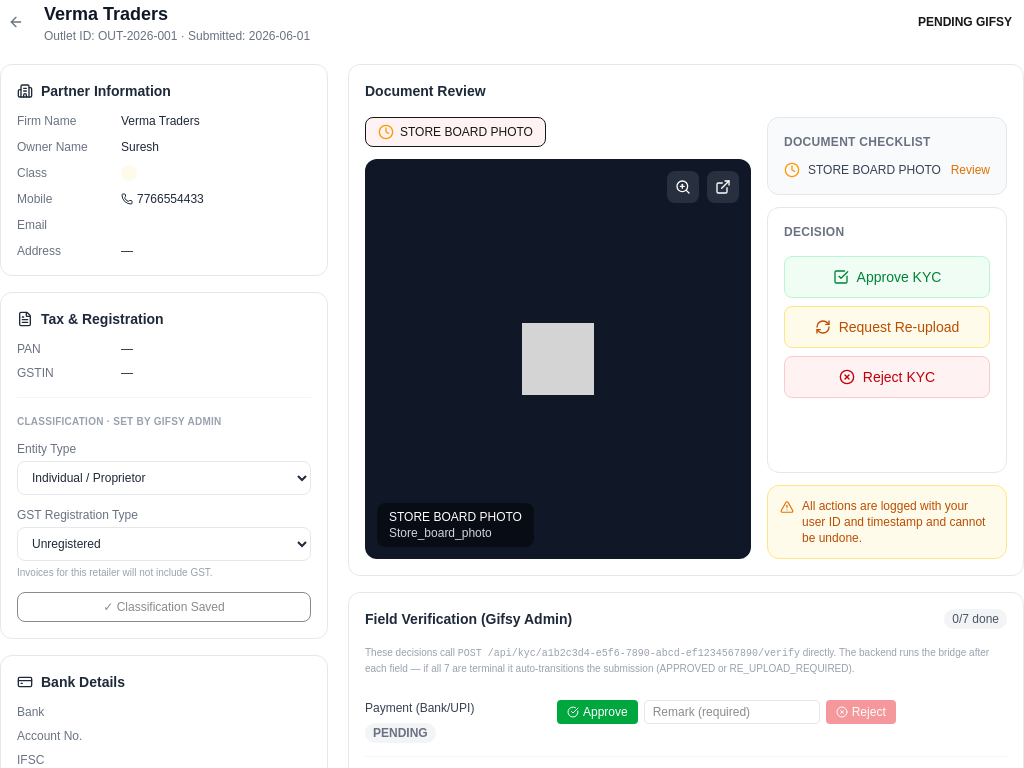
Test: CL — Gifsy classification + group inheritance › CL5: editing a saved value re-disables Approve; reverting it re-enables (label stays consistent)
Expected: the button with test id "approve-kyc-btn" is enabled, [784,256,990,298]
Expected: the button with test id "save-classification-btn" shows "Classification Saved", [17,592,311,622]
Dirty edit (diverge from persisted) → Approve blocked, Save re-enabled + label drops "✓".
Step 1. Select "Private / Public Limited Company" in the dropdown with test id "entity-type-select" → point(164, 478), box [17,461,311,495]
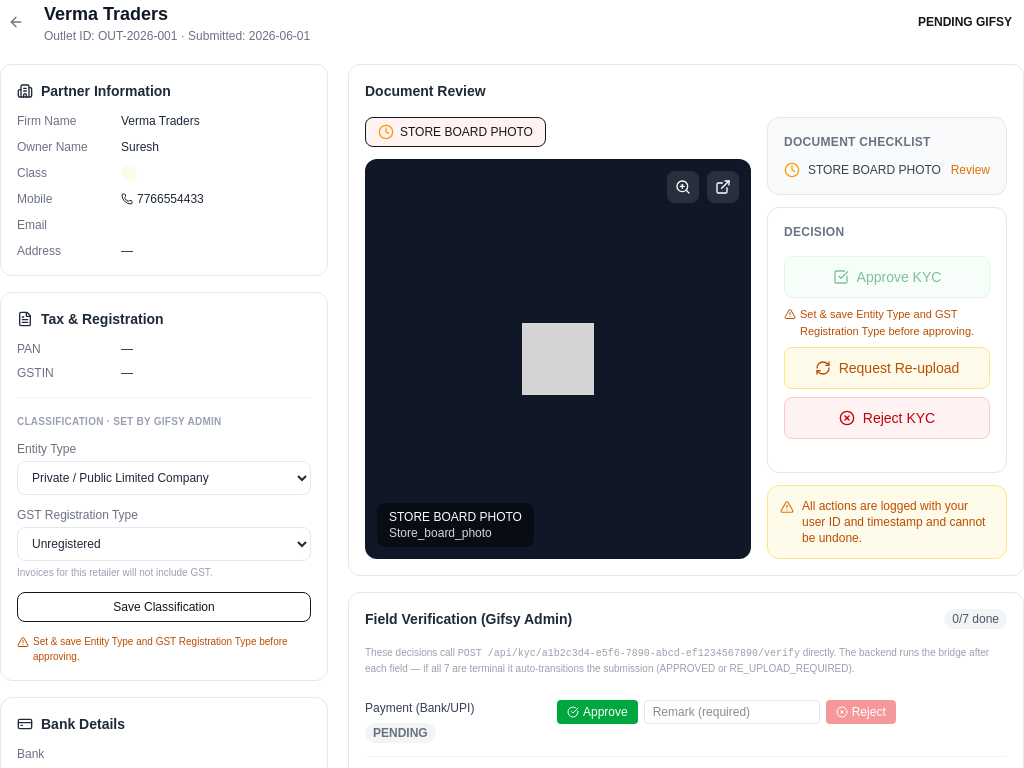
Expected: the button with test id "approve-kyc-btn" is disabled, [784,256,990,298]
Expected: the button with test id "save-classification-btn" reads "Save Classification", [17,592,311,622]
Expected: the button with test id "save-classification-btn" is enabled, [17,592,311,622]
Revert to the persisted value → Approve re-enabled, label back to ✓-saved (no drift).
Step 2. Select "Individual / Proprietor" in the dropdown with test id "entity-type-select" → point(164, 478), box [17,461,311,495]
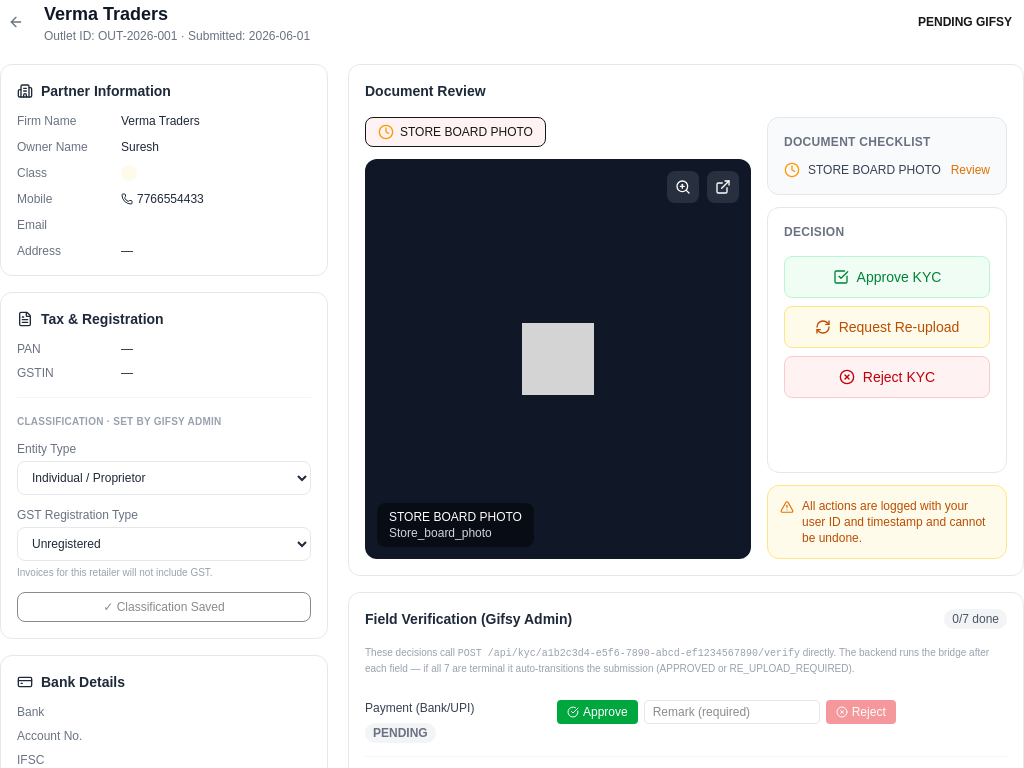
Expected: the button with test id "approve-kyc-btn" is enabled, [784,256,990,298]
Expected: the button with test id "save-classification-btn" shows "Classification Saved", [17,592,311,622]
